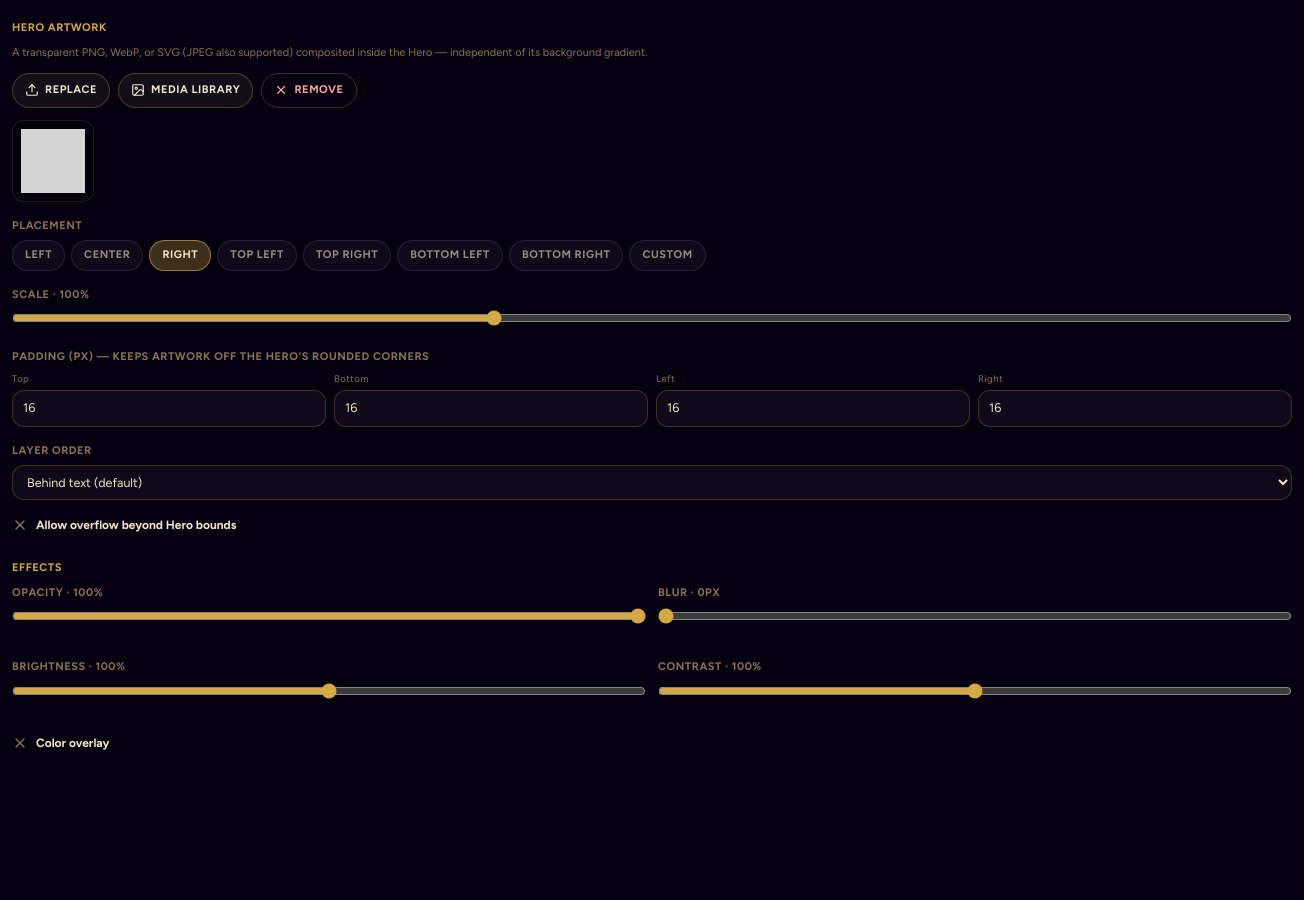
Test: Effects section (Promotion Experience Studio) › blur slider updates the displayed pixel value
Set the slider with test id "hero-artwork-blur" to "8" at (913, 616), box [658,608,1292,624]
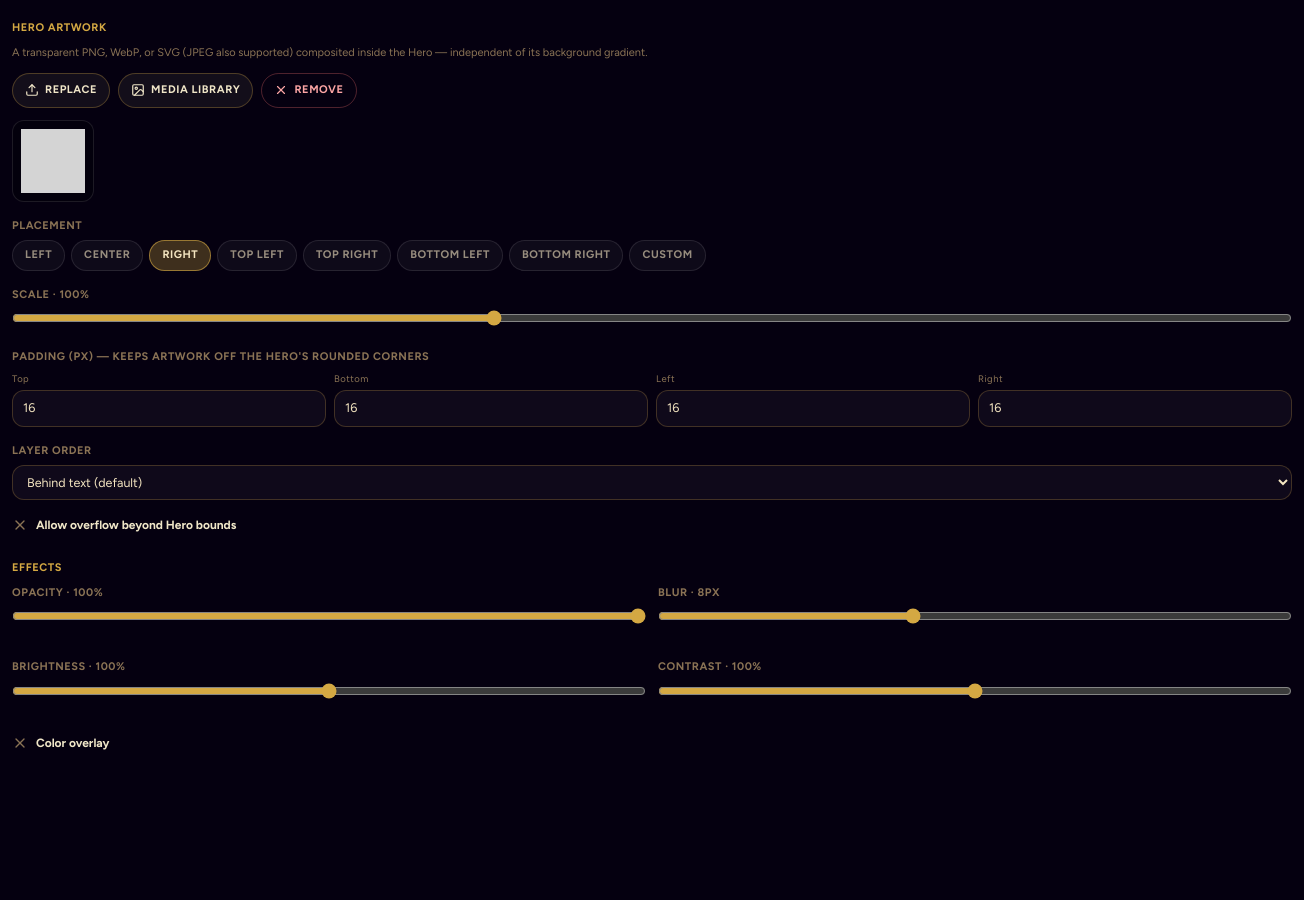
Result: the text "Blur · 8px" is shown at [658,586,720,598]
